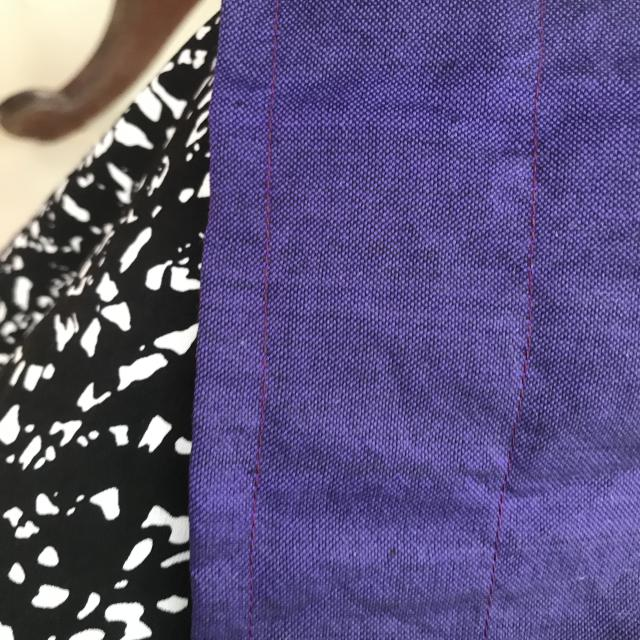good: (250, 195, 281, 383), (516, 186, 540, 355), (473, 502, 512, 597)
